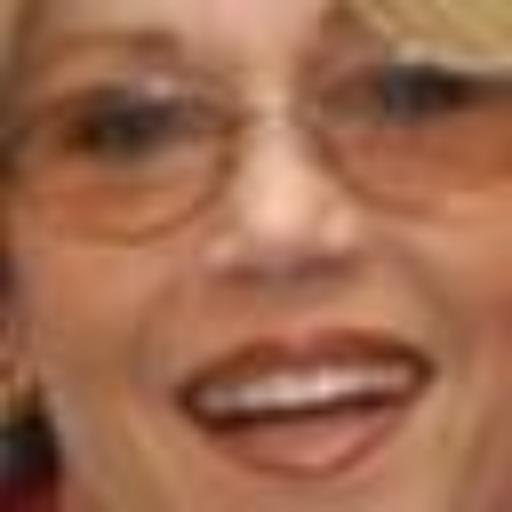left_lip_corner: (159, 373, 209, 419), (407, 346, 449, 386)
